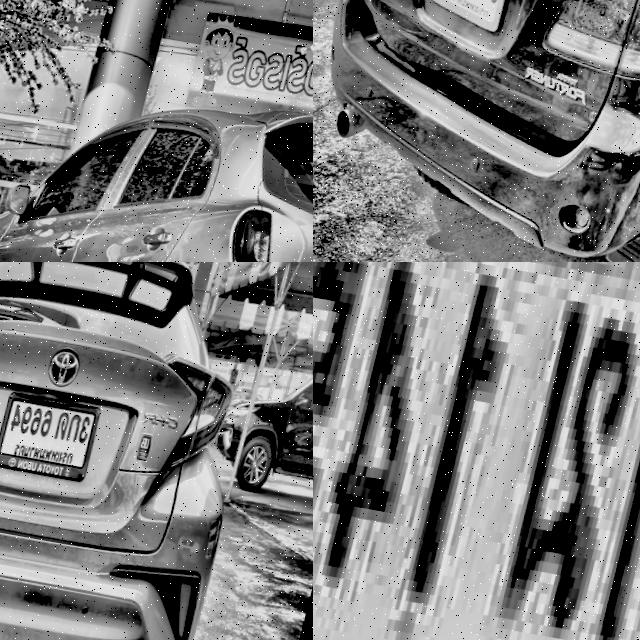license-plate: (313, 262, 640, 640), (0, 382, 110, 482), (423, 0, 522, 29)
